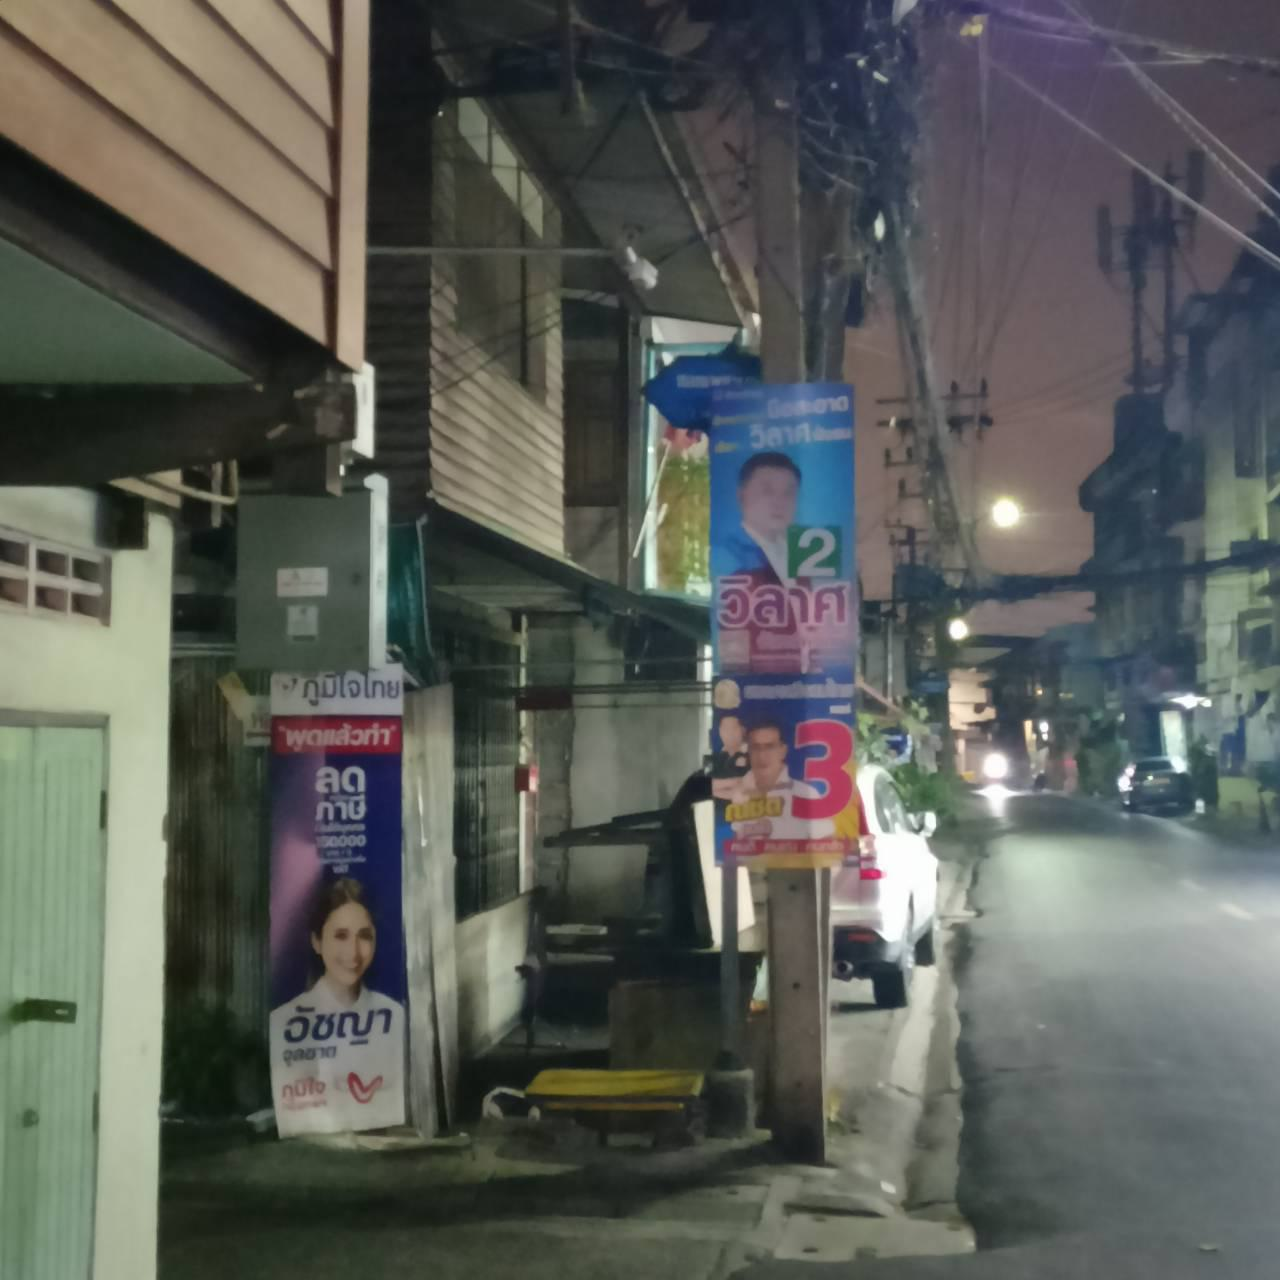Banner: (694, 381, 867, 866), (254, 661, 413, 1141)
